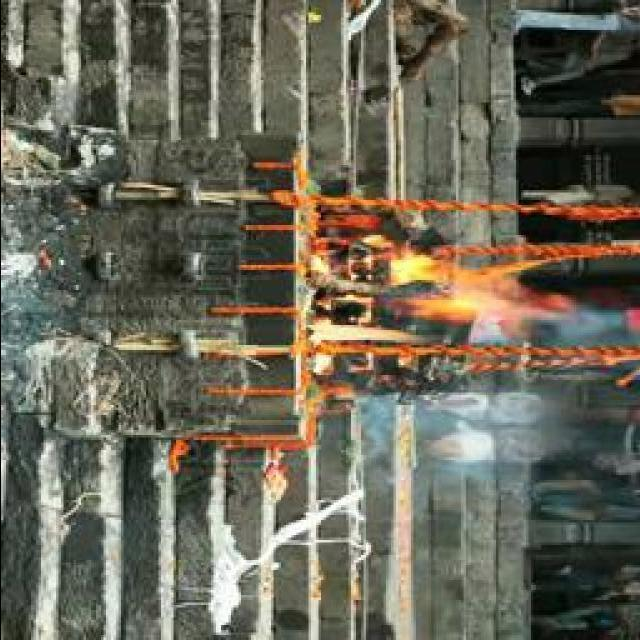Fire: (302, 240, 548, 356)
